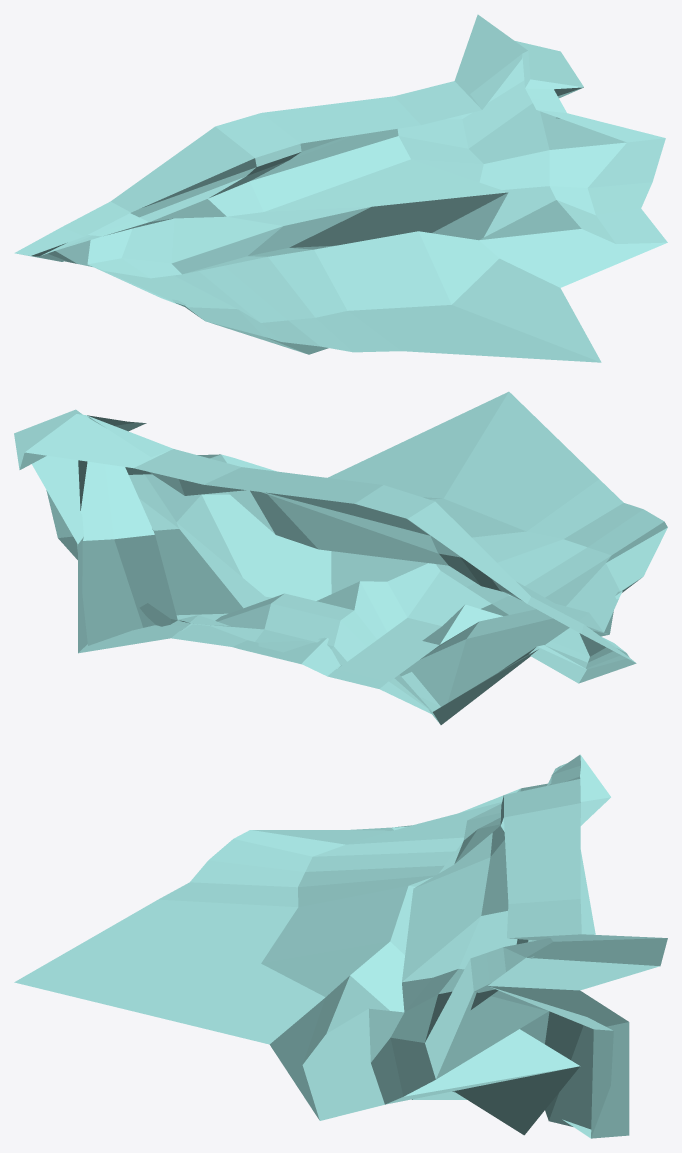
Rendered from ship1.glb.
3 renders of one model, top to bottom at view 1: azimuth 30°, elevation 25°; view 2: azimuth 150°, elevation 25°; view 3: azimuth 270°, elevation 25°, orthographic. The views are drawn at different scales.
Visible parts, largest first — view 1: Cube; view 2: Cube; view 3: Cube.
Boxes of the visible parts, x1,y1,x2,y2 form: Cube: (14,14,667,362); Cube: (14,391,667,724); Cube: (14,754,667,1138).
Size of the model in its own units: 4.85 by 1.48 by 3.9.
